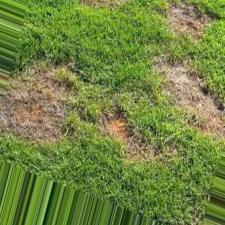patch: (10, 83, 69, 136), (169, 73, 217, 128), (107, 119, 144, 154)
